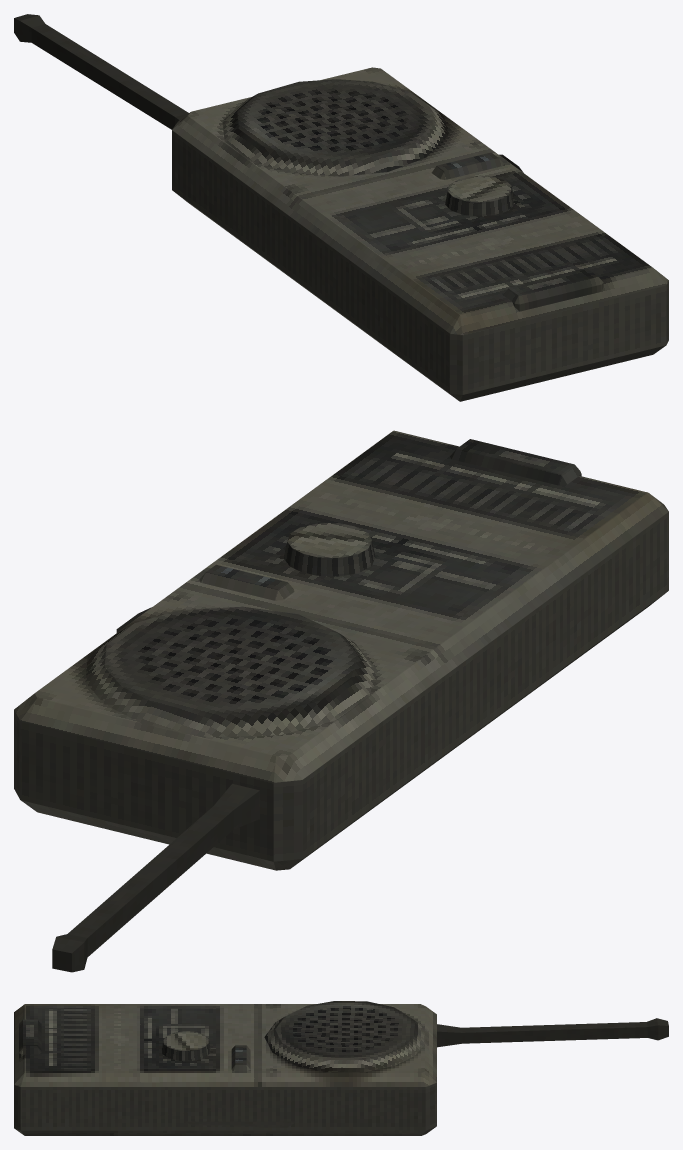
File: walkie_talkie_2.glb
3 views of the same model, one above another, from view 1: azimuth 30°, elevation 25°; view 2: azimuth 150°, elevation 25°; view 3: azimuth 270°, elevation 25° (orthographic). The views are drawn at different scales.
Visible parts, largest first — view 1: walkie_talkie_2; view 2: walkie_talkie_2; view 3: walkie_talkie_2.
Part boxes in pixels (left/top/right/bottom): walkie_talkie_2: left=14, top=14, right=668, bottom=401; walkie_talkie_2: left=14, top=430, right=668, bottom=972; walkie_talkie_2: left=14, top=1001, right=668, bottom=1135.
Size of the model in its own units: 0.1139 by 0.046 by 0.3761.
Materials: 1 (1 with a texture image).
